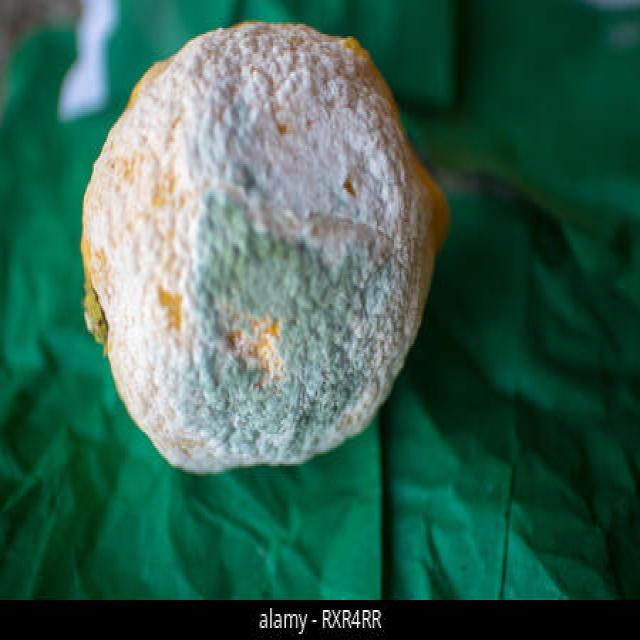Rotten: (79, 19, 445, 472)
